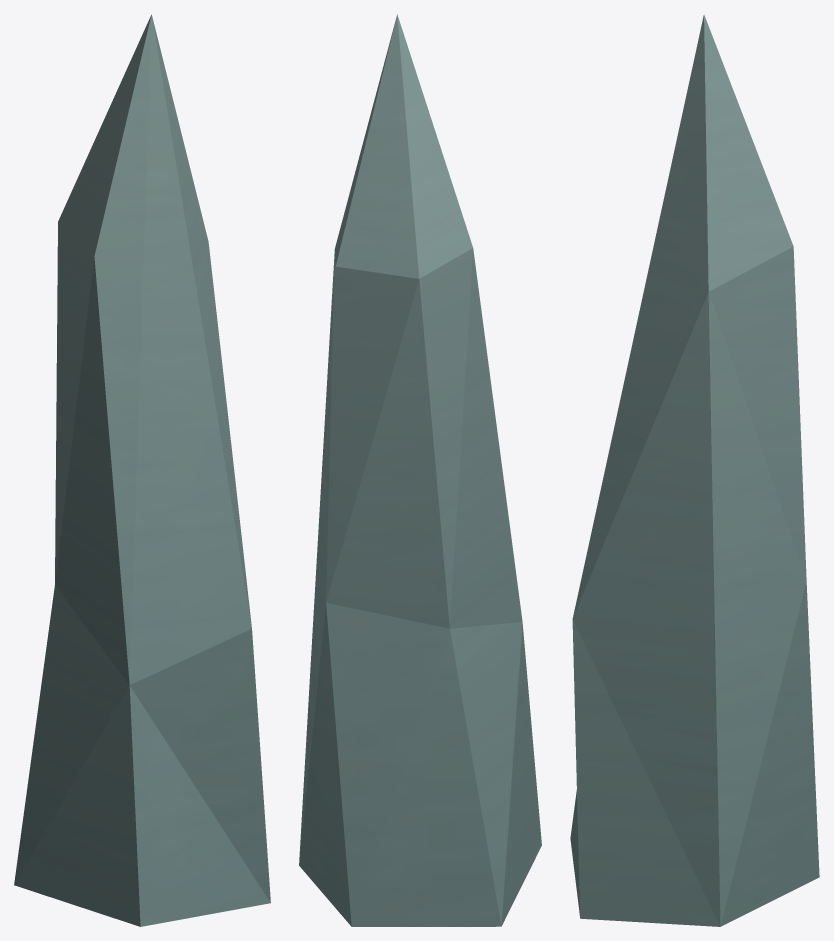
File: icicle_C.obj
The picture shows the model from 3 angles, left to right: view 1: azimuth 30°, elevation 25°; view 2: azimuth 150°, elevation 25°; view 3: azimuth 270°, elevation 25°; orthographic projection.
Visible parts, largest first — view 1: icicle_C; view 2: icicle_C; view 3: icicle_C.
Part boxes in pixels (bbox=[...]): icicle_C: bbox=[14, 14, 270, 926]; icicle_C: bbox=[299, 14, 541, 926]; icicle_C: bbox=[570, 14, 819, 926].
Bounding box in the file's own units: 0.1075 × 0.4232 × 0.1092.
